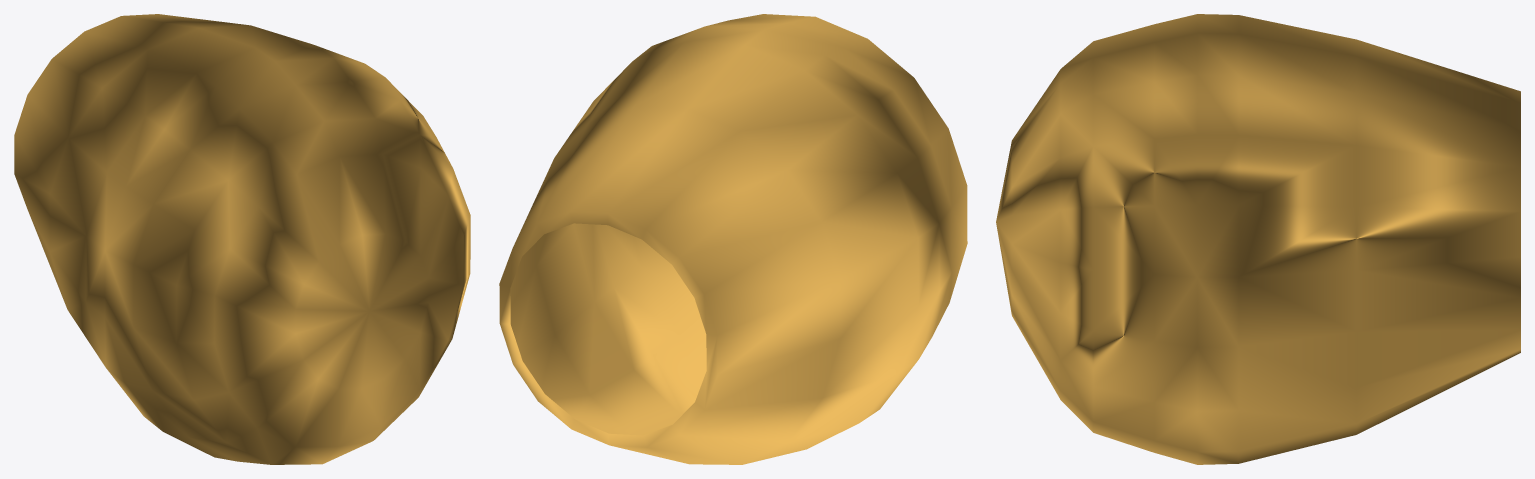
Rendered from head.dae.
3 views of the same model, side by side, from view 1: azimuth 30°, elevation 25°; view 2: azimuth 150°, elevation 25°; view 3: azimuth 270°, elevation 25° (orthographic). The views are drawn at different scales.
Parts seen in each view (by area): view 1: Node_000001982B1DA1B0; view 2: Node_000001982B1DA1B0; view 3: Node_000001982B1DA1B0.
Part boxes in pixels (bbox=[...]): Node_000001982B1DA1B0: bbox=[14, 14, 470, 464]; Node_000001982B1DA1B0: bbox=[499, 14, 967, 464]; Node_000001982B1DA1B0: bbox=[996, 14, 1520, 464].
Size of the model in its own units: 0.1794 by 0.1999 by 0.2286.
